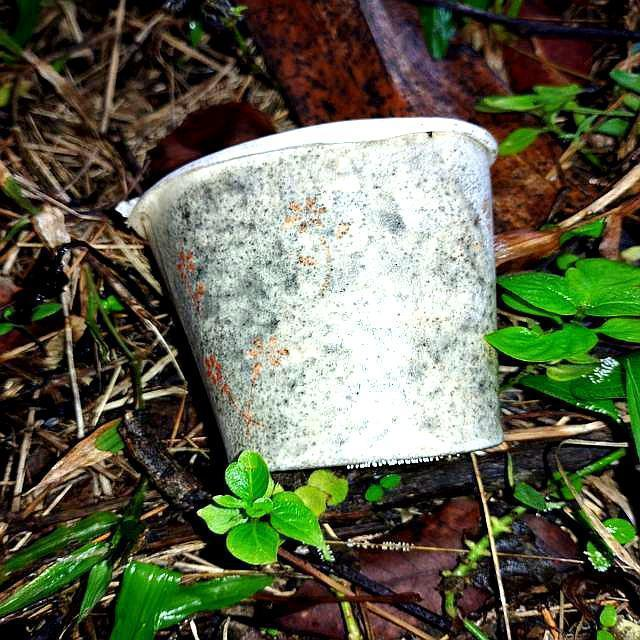Biodegradable: (129, 115, 505, 469)
